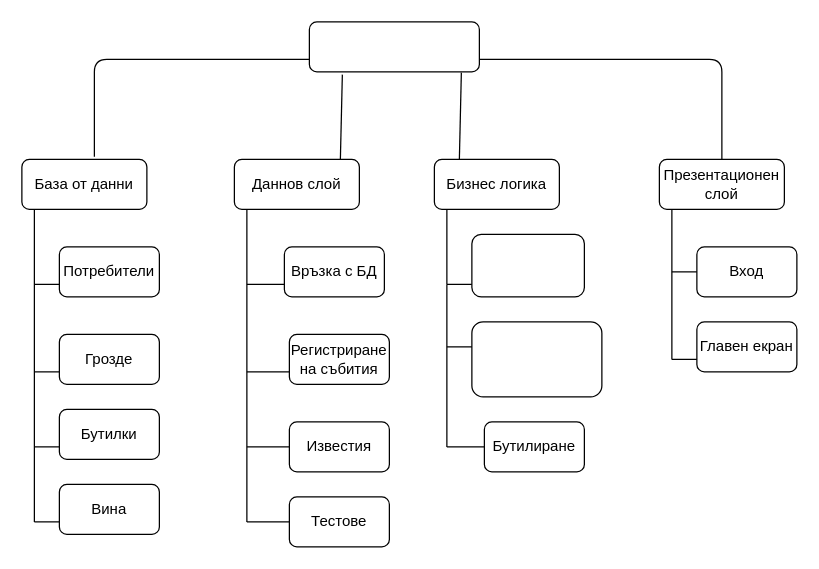
Some shapes in this 819 by 569 pixel diagram are drawn without their labels. The shapes that lost their labels are listed below. From the top down, each one's centre as x and y in pixels, then its label:
At point (393, 46): "Система за производство на вино".
At point (527, 265): "Регистрация на грозде, бутилки, вина".
At point (536, 359): "Дефиниране на количества за производство".
